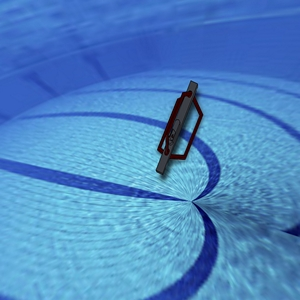submarine: (141, 76, 219, 197)
